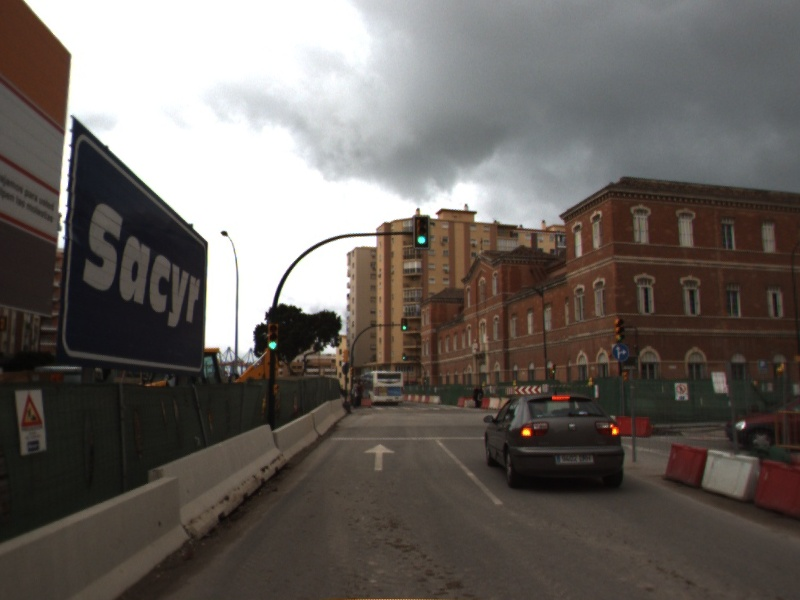STRAIGHT: (362, 442, 397, 472)
